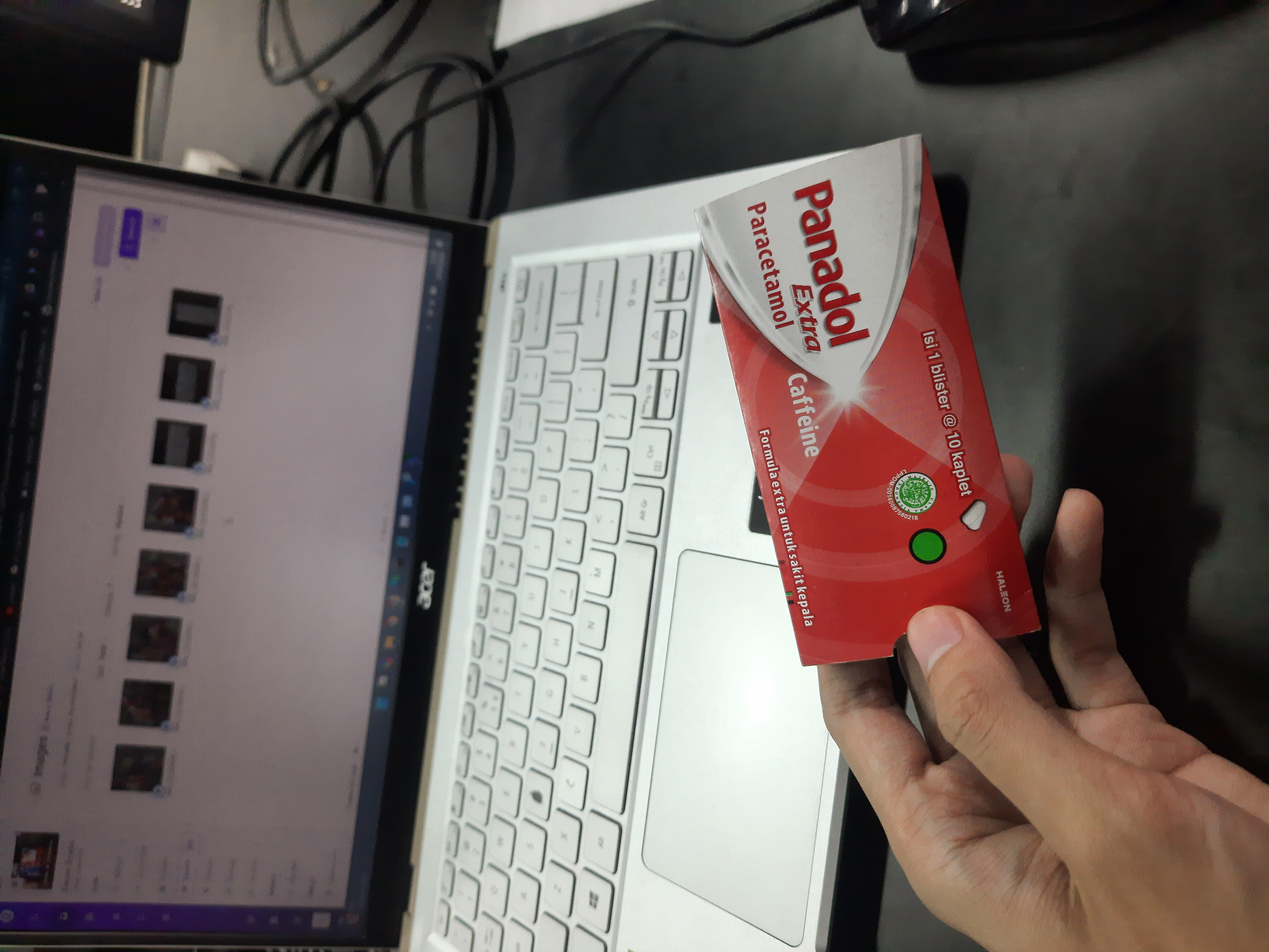Panadol Extra Paracetamol: (381, 520, 1090, 781)
